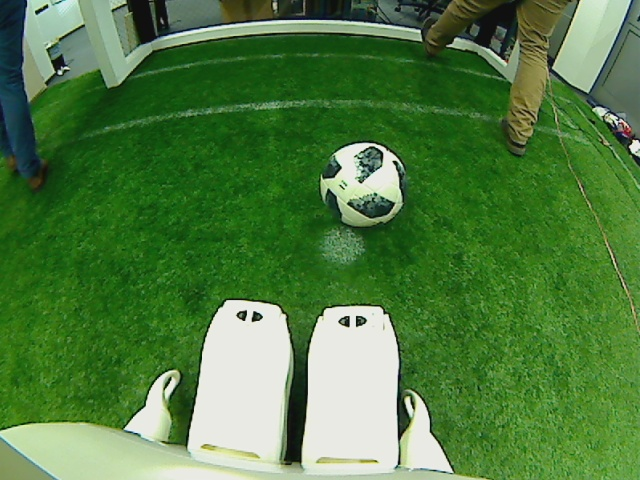ball: (317, 140, 410, 230)
